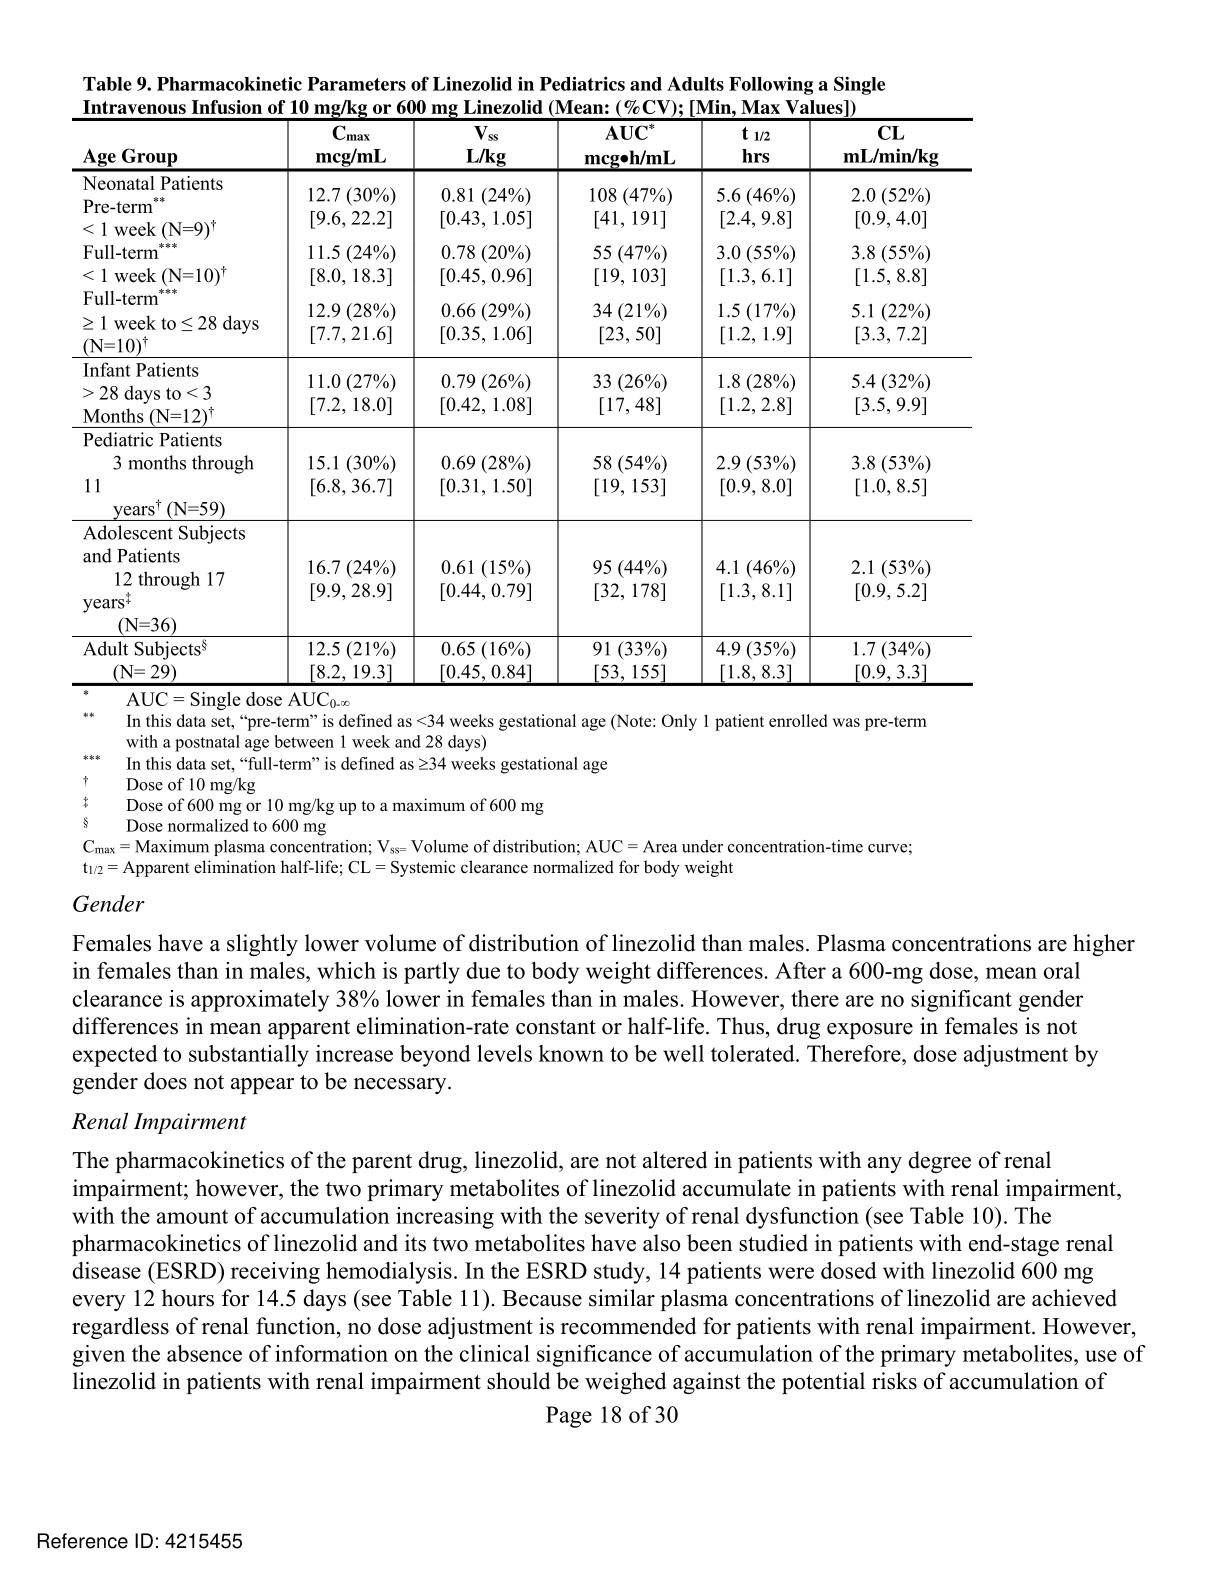partial_lined: (72, 114, 975, 688)
